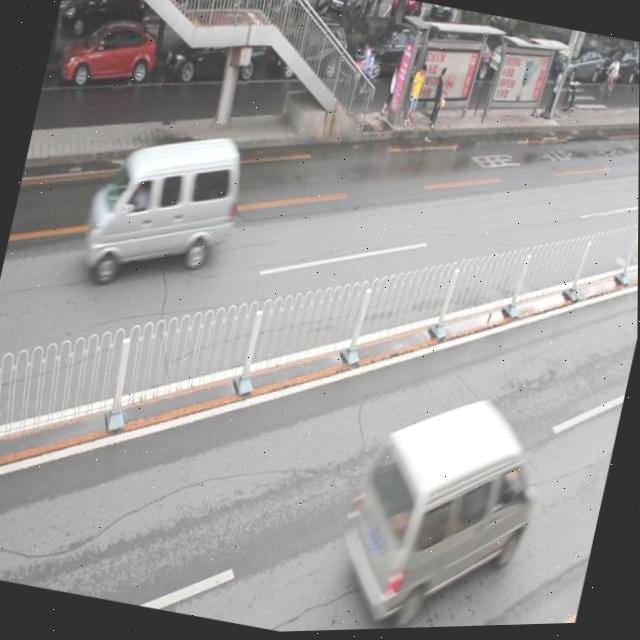car: (58, 10, 162, 100), (165, 19, 269, 95), (263, 17, 353, 95), (349, 20, 438, 96)
truck: (327, 375, 556, 632), (74, 109, 249, 306)
